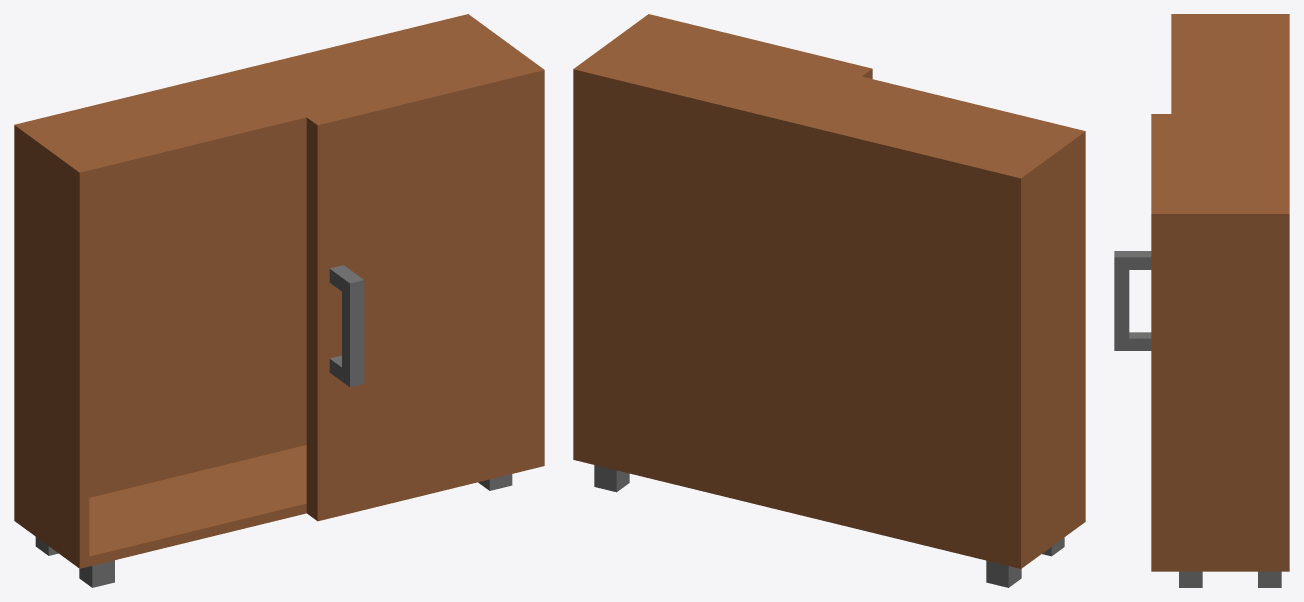
File: Container_CabinetBroken.fbx
3 views of the same model, side by side, from view 1: azimuth 30°, elevation 25°; view 2: azimuth 150°, elevation 25°; view 3: azimuth 270°, elevation 25° (orthographic). The views are drawn at different scales.
Parts seen in each view (by area): view 1: CabinetBroken; view 2: CabinetBroken; view 3: CabinetBroken.
Part boxes in pixels (x1,y1,x2,y2): CabinetBroken: (14,14,544,587); CabinetBroken: (573,14,1085,587); CabinetBroken: (1114,14,1289,587).
Size of the model in its own units: 480 by 177 by 427.
